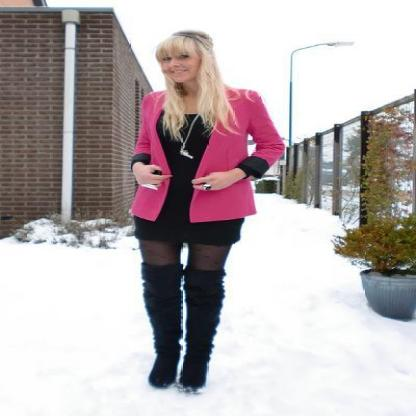dress: (130, 110, 268, 252)
jacket: (129, 89, 284, 222)
shoe: (142, 268, 224, 388)
